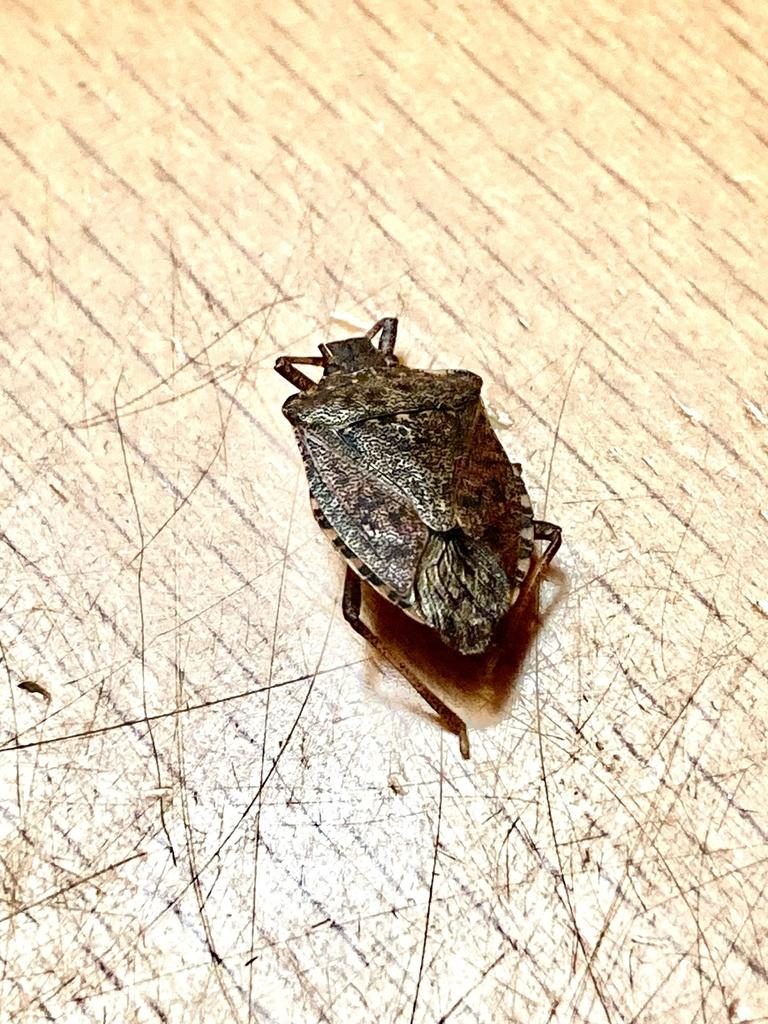stink_bugs: (191, 266, 671, 791)
